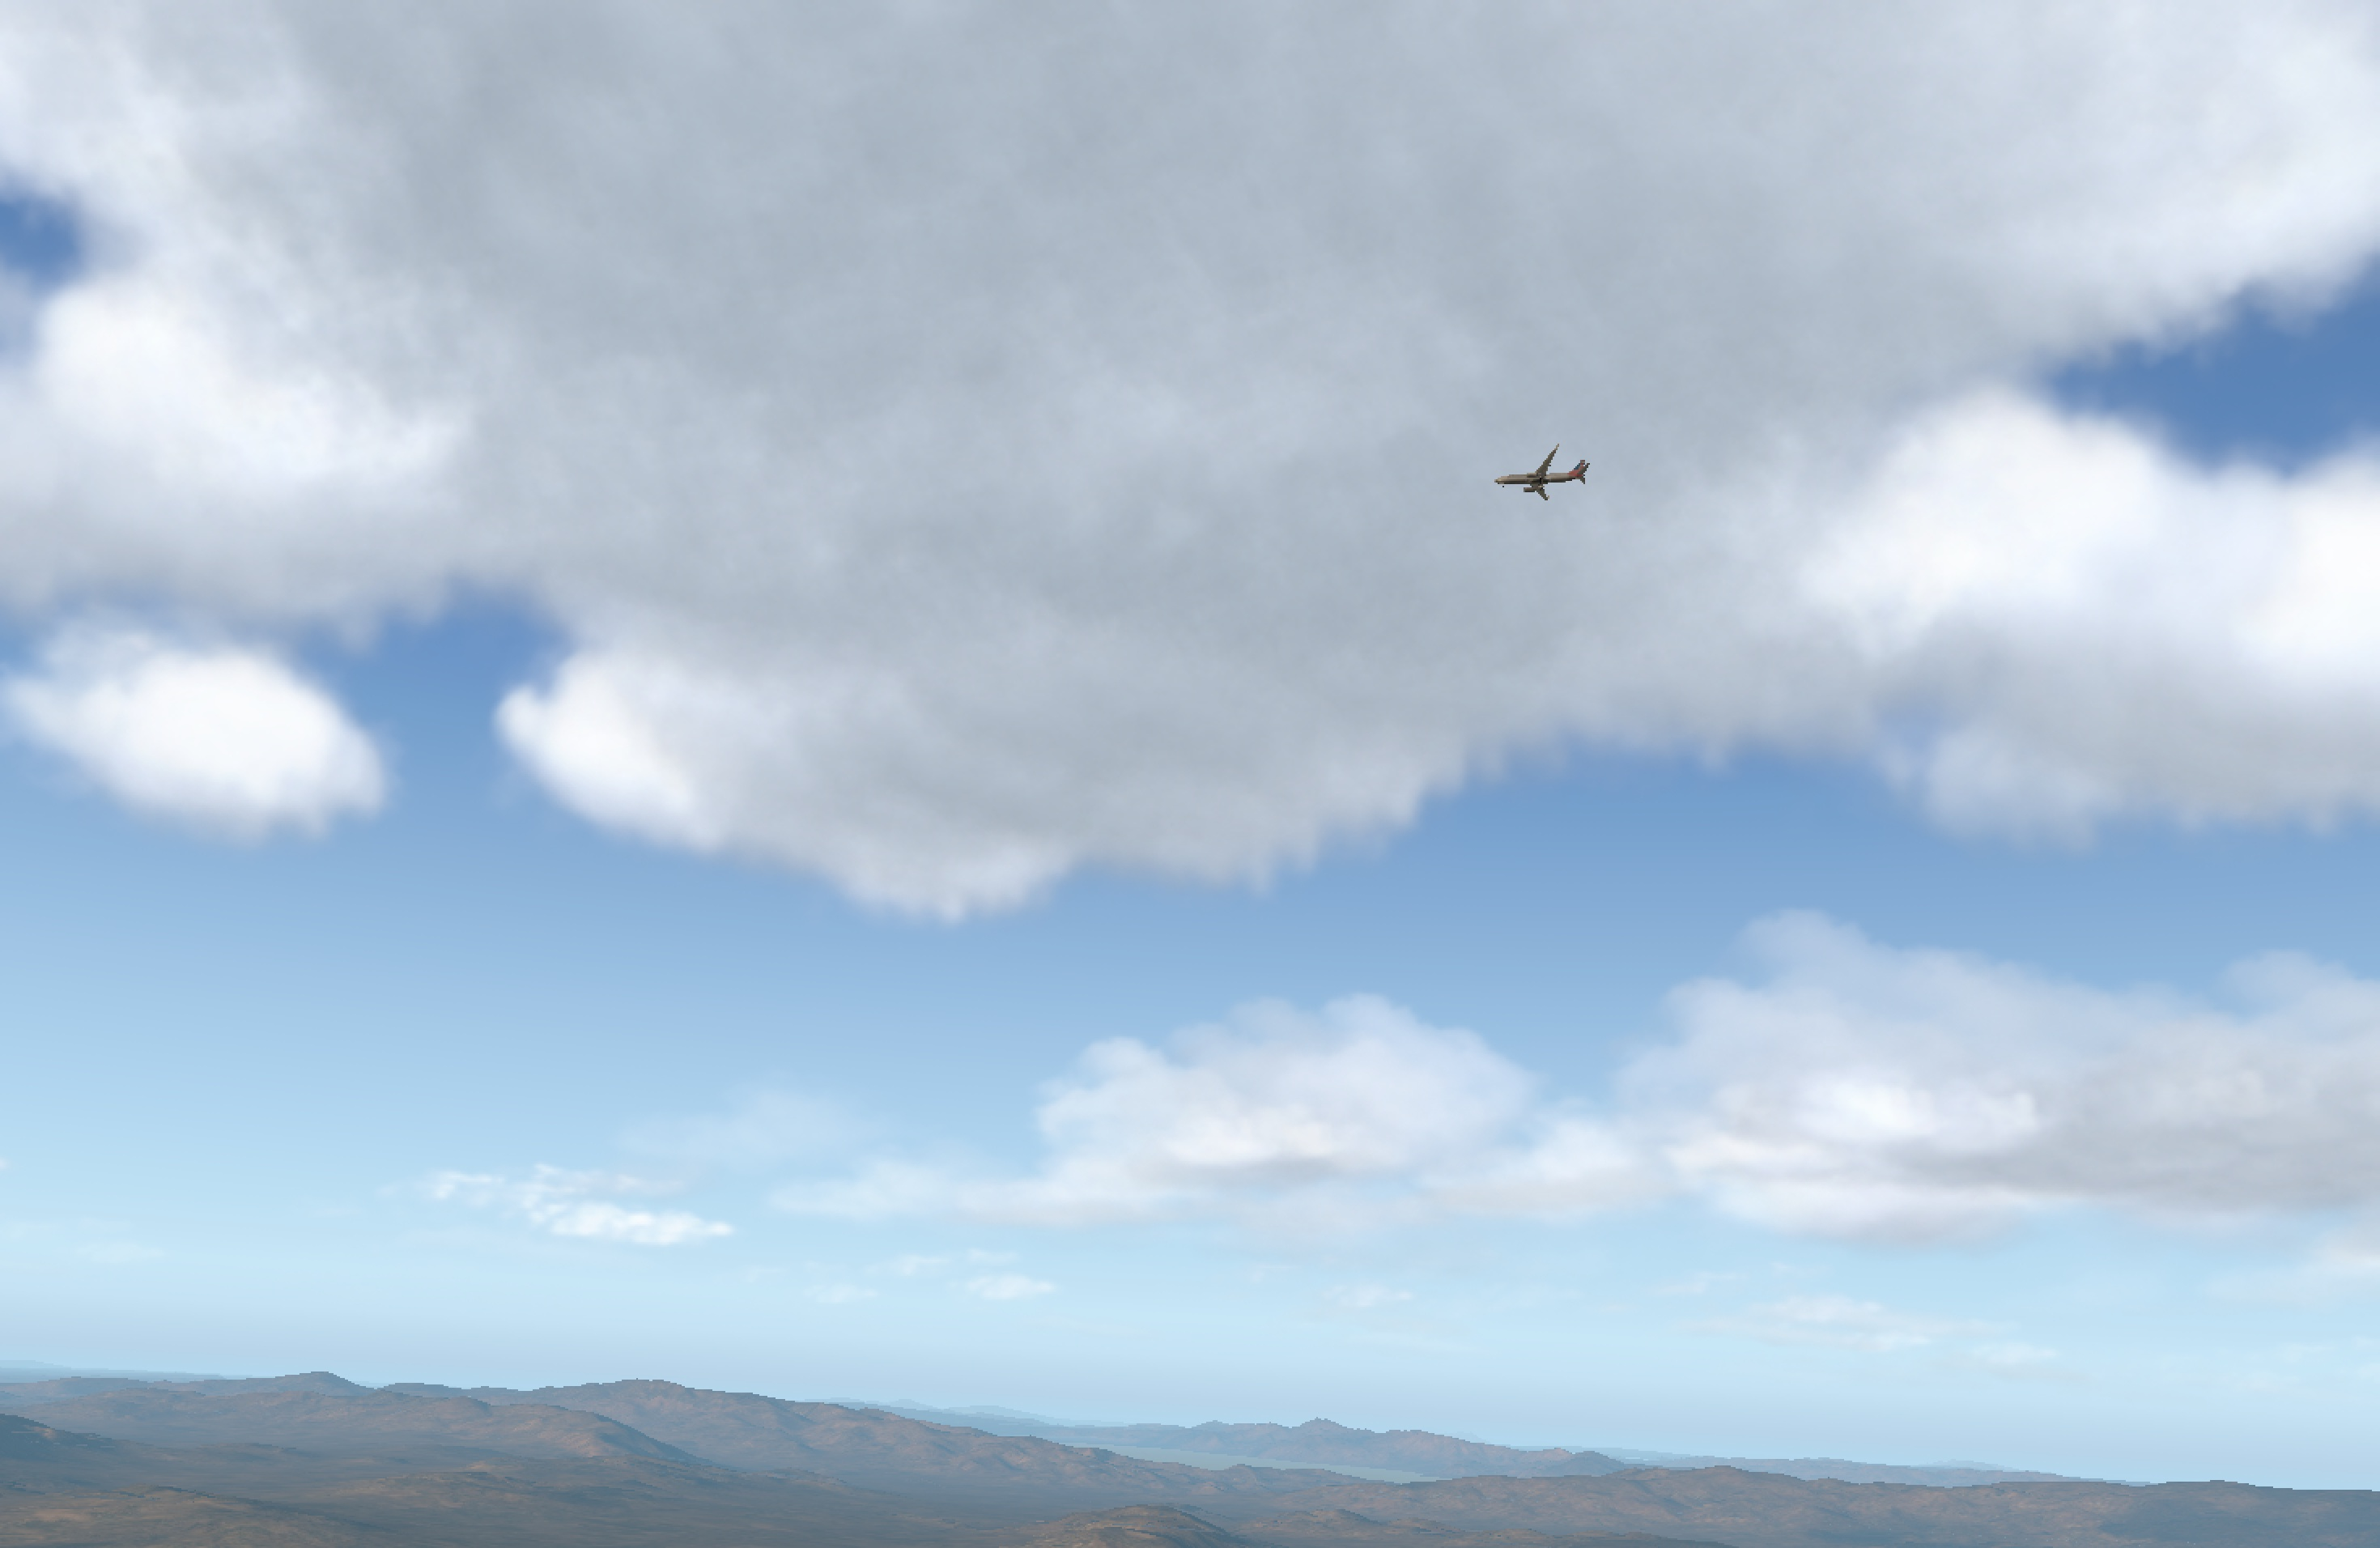aircraft: (1492, 463, 1584, 498)
